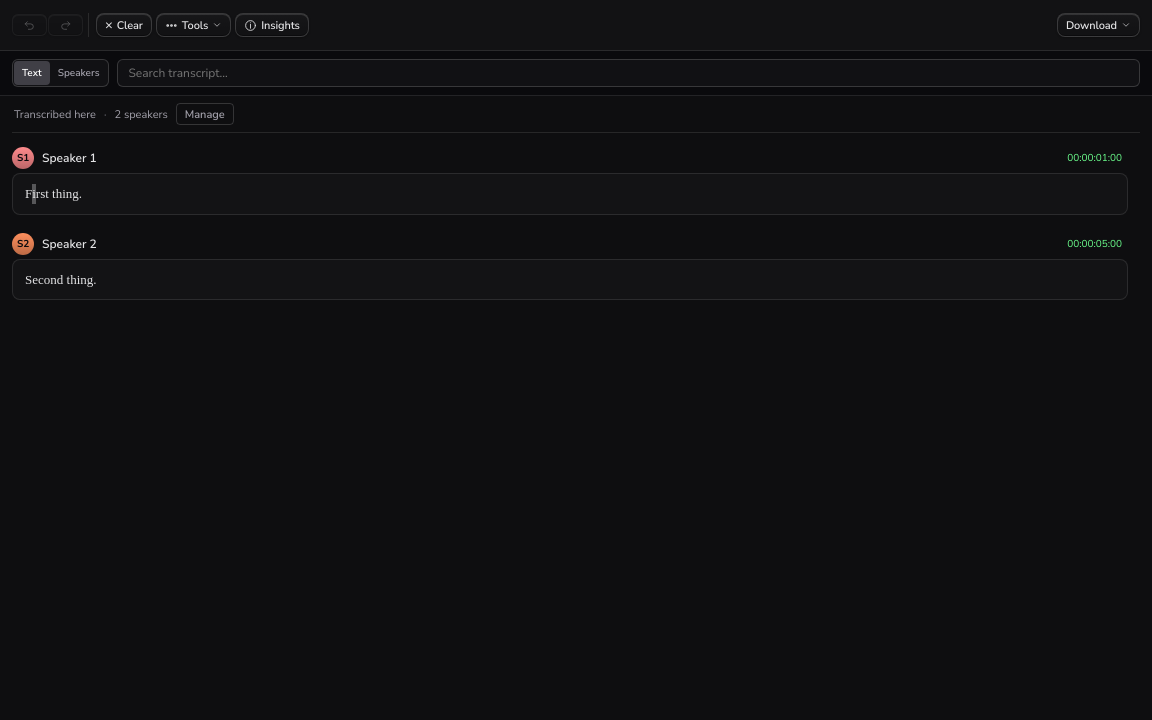
splitting a speaker by selecting their dialogue › splits, then asks who it is
Right-click the button with class "cp-tx-cue" showing "First thing.": (54, 194) [25,186,82,201]
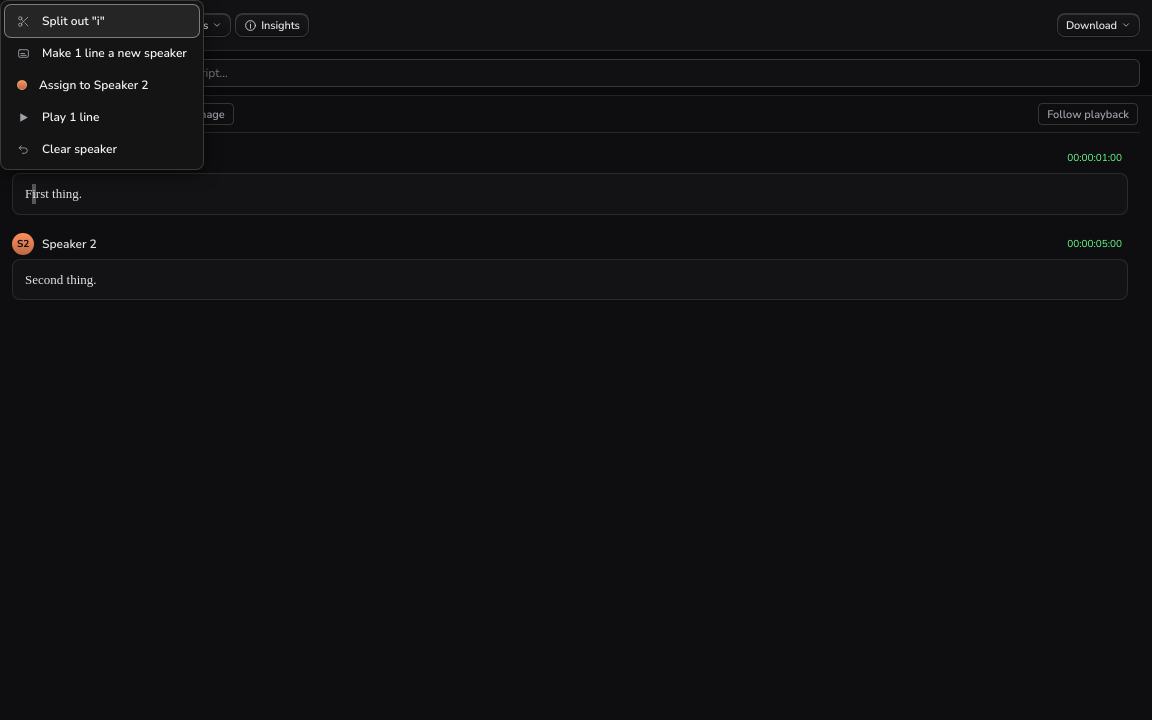
Click the menu item "Make 1 line a new speaker": (102, 53) [5,37,199,69]
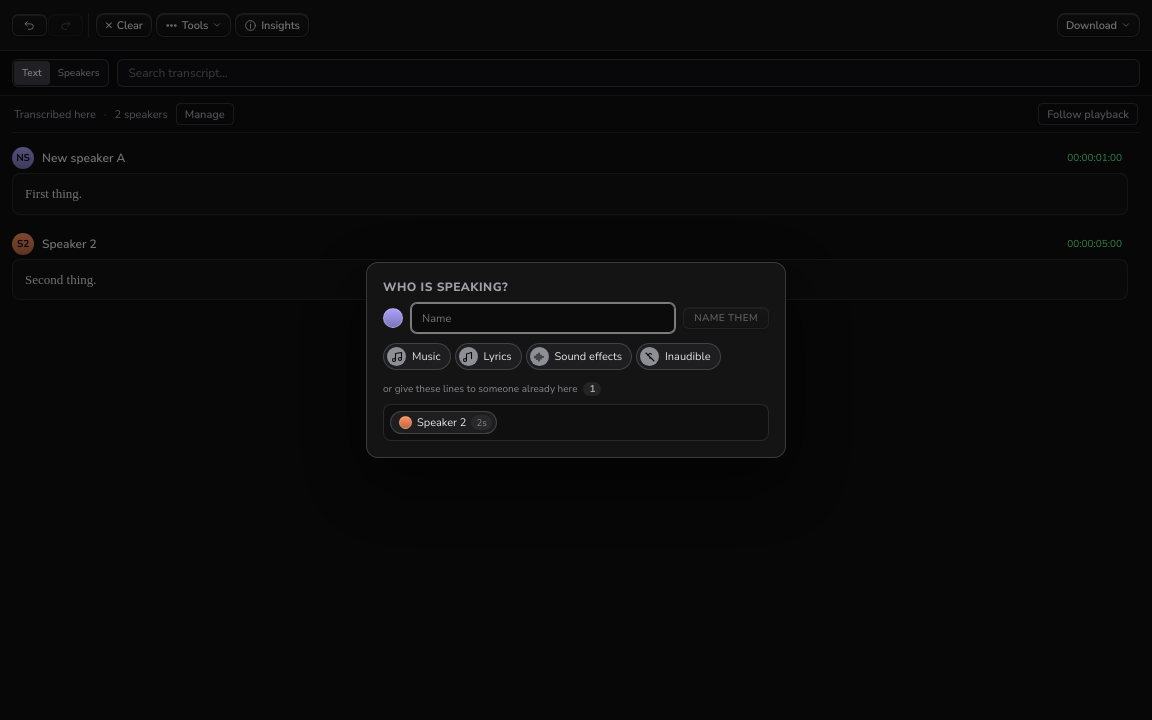
Result: the dialog named "Name the new speaker" is shown at [366,262,786,458]
